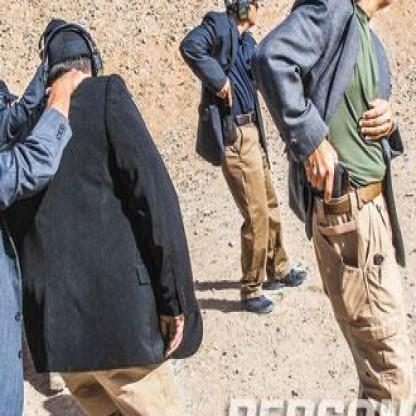gun: (306, 159, 350, 208), (217, 77, 238, 118)
